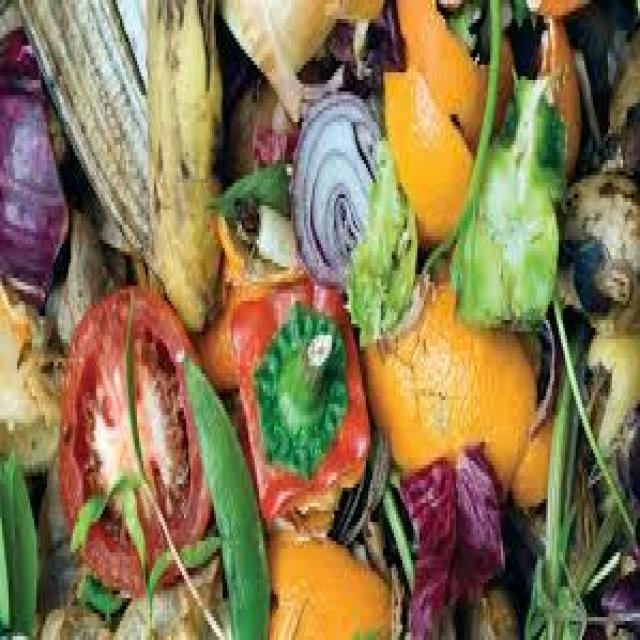food_waste: (25, 16, 622, 607)
